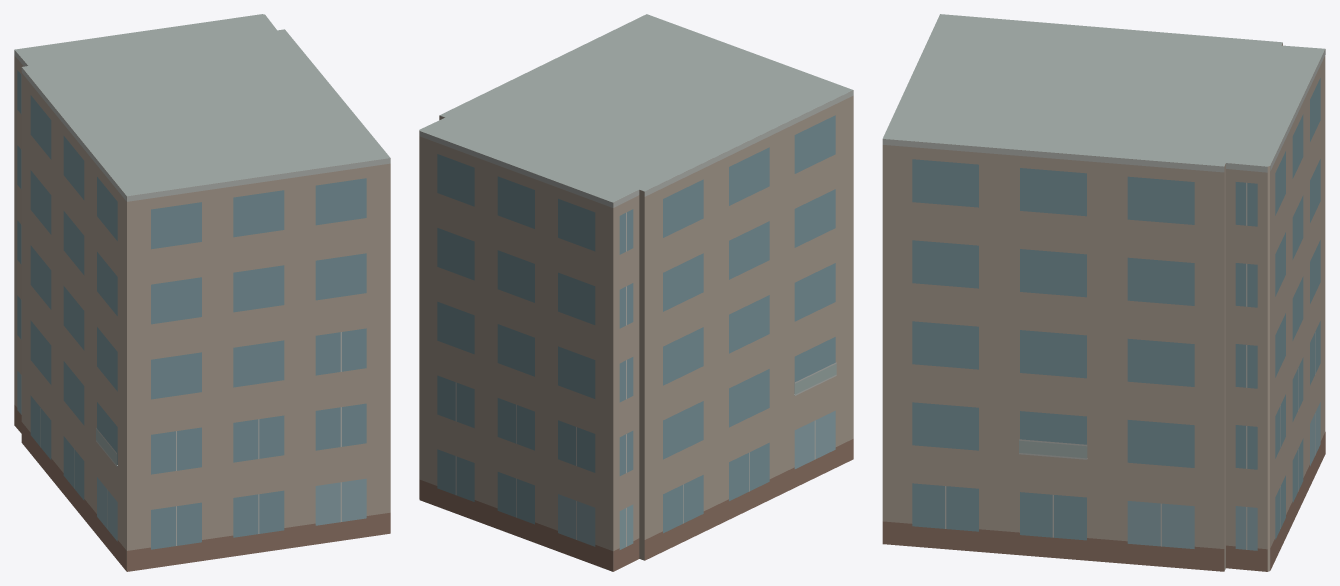
File: survey-upis-32980017.glb
The picture shows the model from 3 angles, left to right: view 1: azimuth 30°, elevation 25°; view 2: azimuth 150°, elevation 25°; view 3: azimuth 270°, elevation 25°; orthographic projection. The views are drawn at different scales.
Parts seen in each view (by area): view 1: survey-upis-32980017.tmp; view 2: survey-upis-32980017.tmp; view 3: survey-upis-32980017.tmp.
Part boxes in pixels (box(x1,y1,x2,y2)): survey-upis-32980017.tmp: box(14, 14, 390, 571); survey-upis-32980017.tmp: box(419, 14, 853, 571); survey-upis-32980017.tmp: box(882, 14, 1325, 571).
Size of the model in its own units: 13.42 by 16.6 by 16.46.
